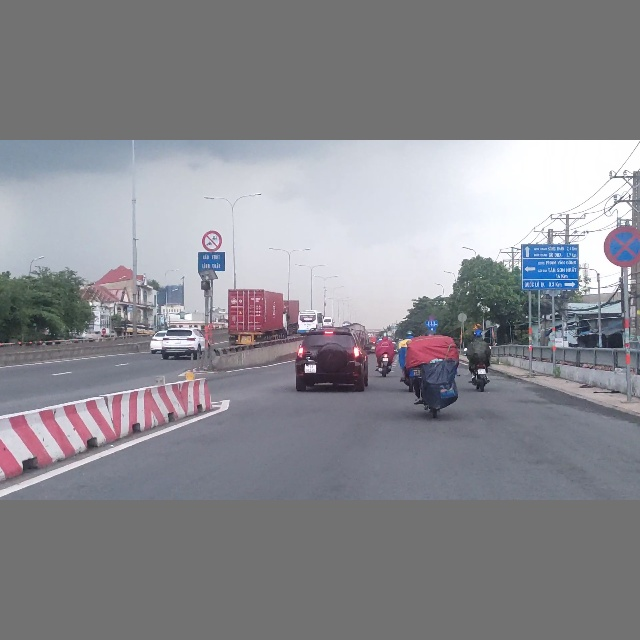P.102: (102, 328, 106, 334)
P.111: (202, 230, 222, 252)
P.130: (604, 226, 640, 268)
